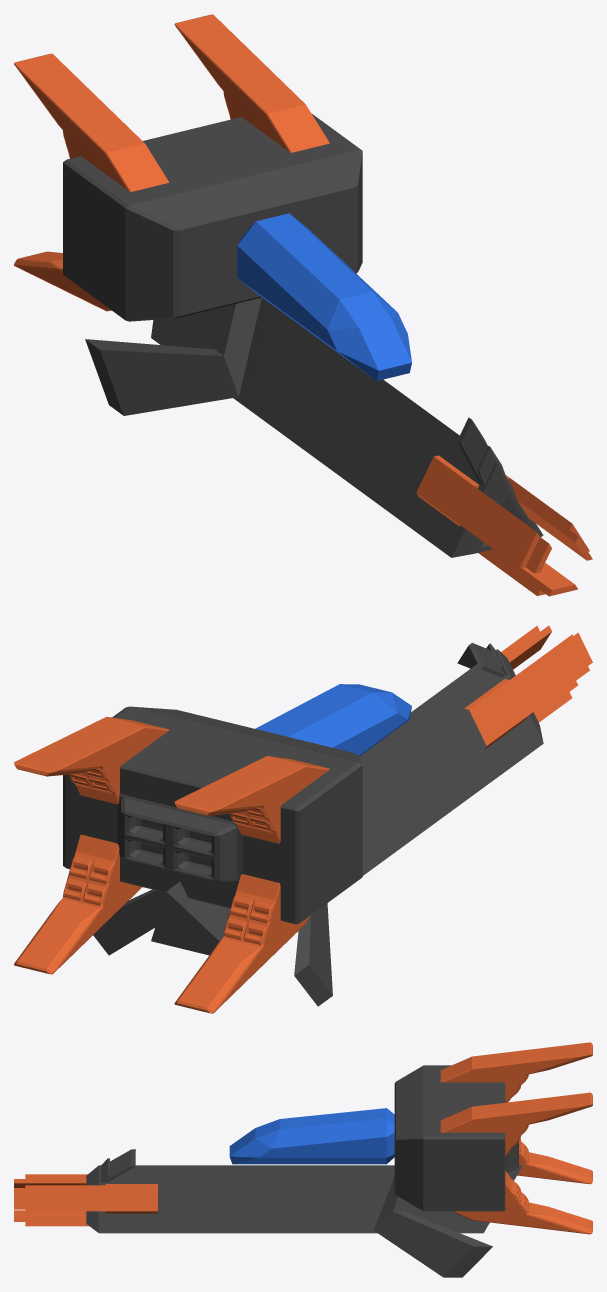
File: ShipD.fbx
3 renders of one model, top to bottom at view 1: azimuth 30°, elevation 25°; view 2: azimuth 150°, elevation 25°; view 3: azimuth 270°, elevation 25°, orthographic. The views are drawn at different scales.
Visible parts, largest first — view 1: Cylinder, Cube.001, Cube.002, Cube, Cylinder.001; view 2: Cube.001, Cube.002, Cylinder, Cylinder.001, Cube; view 3: Cylinder, Cube.001, Cube.002, Cube, Cylinder.001.
Part boxes in pixels (bbox=[...]): Cylinder: bbox=[85, 297, 543, 557]; Cube.001: bbox=[63, 113, 362, 321]; Cube.002: bbox=[14, 14, 329, 311]; Cube: bbox=[237, 213, 411, 380]; Cylinder.001: bbox=[416, 455, 592, 596]; Cube.001: bbox=[63, 706, 362, 924]; Cube.002: bbox=[14, 716, 329, 1013]; Cylinder: bbox=[93, 643, 543, 1006]; Cylinder.001: bbox=[464, 625, 592, 749]; Cube: bbox=[255, 684, 411, 756]; Cylinder: bbox=[86, 1149, 522, 1277]; Cube.001: bbox=[394, 1065, 518, 1211]; Cube.002: bbox=[440, 1042, 592, 1234]; Cube: bbox=[229, 1108, 394, 1164]; Cylinder.001: bbox=[14, 1174, 157, 1226].
Size of the model in its own units: 671 by 726 by 2220.
